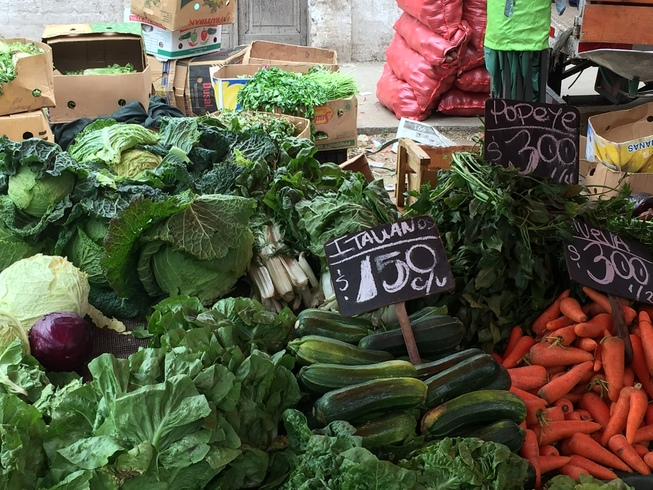precio: (324, 209, 455, 314), (480, 95, 589, 187), (561, 209, 653, 311)
